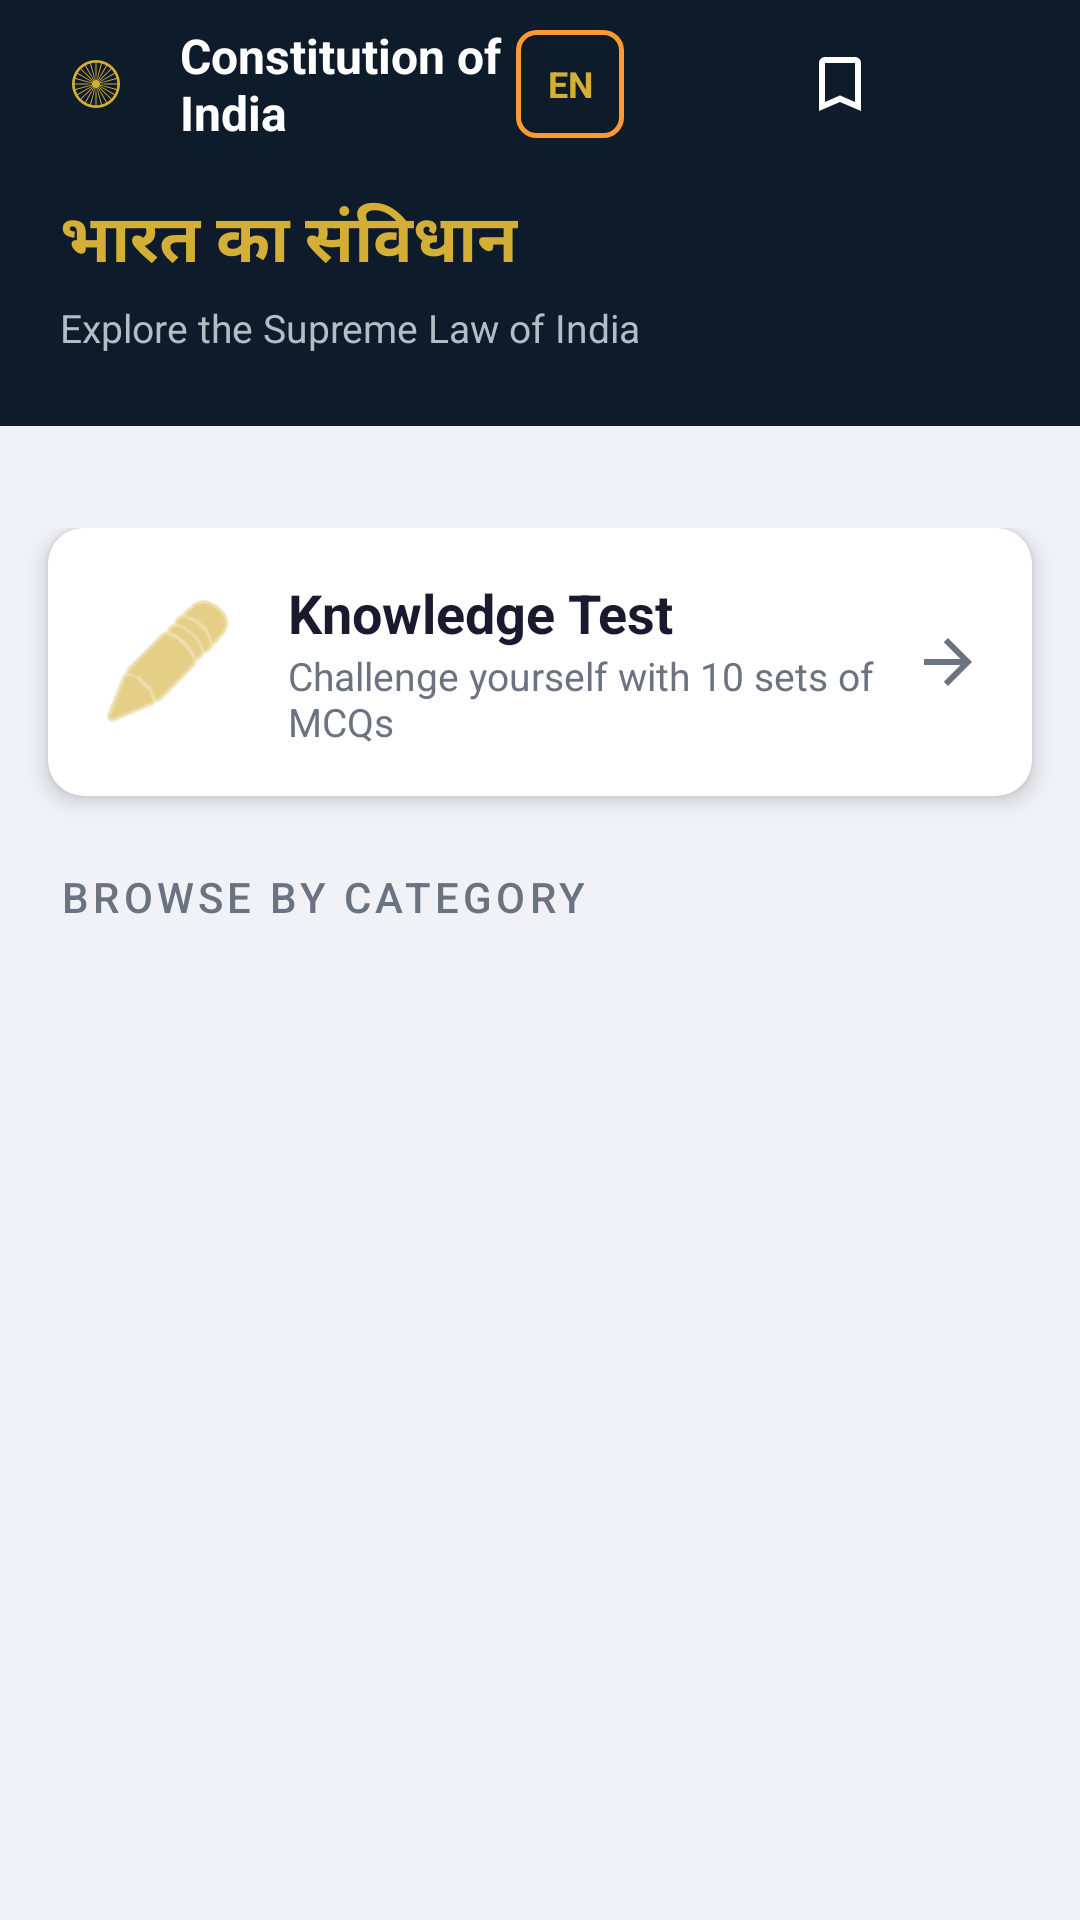

Icon bounding boxes for this 1080 x 1920 phone screenshot, format (x1, y1, x2, y2):
arrow forward: (924, 638, 972, 686)
bookmark: (819, 57, 861, 111)
edit: (106, 600, 228, 722)
